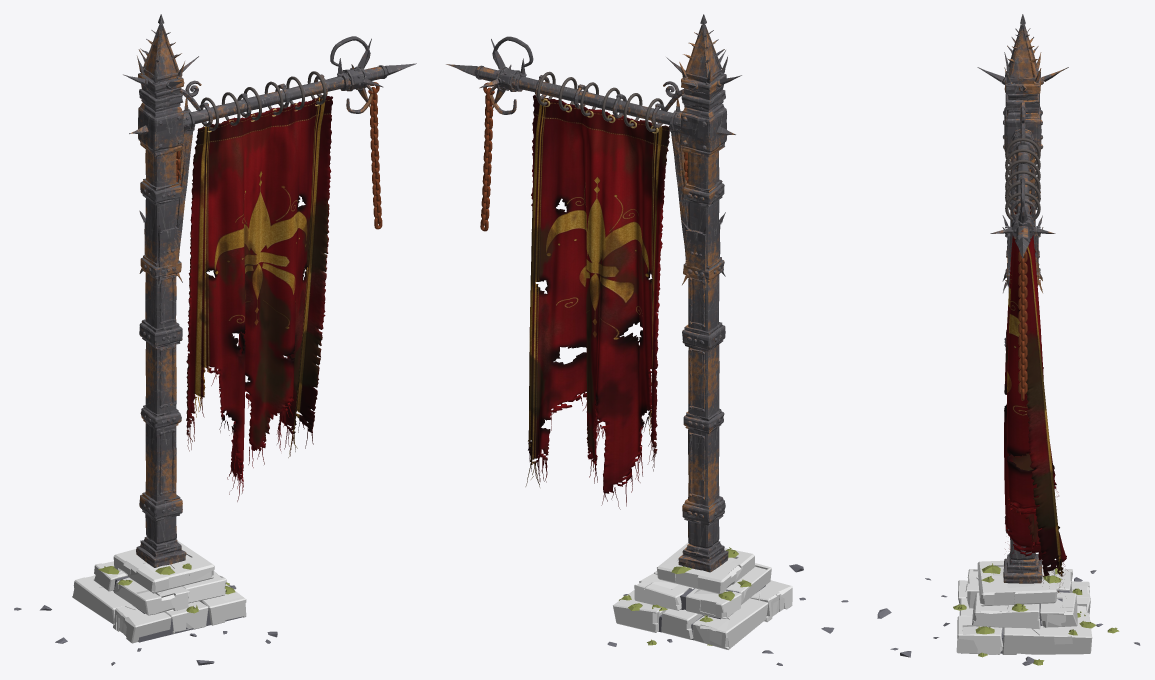
The model's file is SM_Cripta_Estandarte.glb.
The picture shows the model from 3 angles, left to right: view 1: azimuth 30°, elevation 25°; view 2: azimuth 150°, elevation 25°; view 3: azimuth 270°, elevation 25°; orthographic projection. The views are drawn at different scales.
Visible parts, largest first — view 1: SM_Cripta_Estandarte; view 2: SM_Cripta_Estandarte; view 3: SM_Cripta_Estandarte.
Boxes of the visible parts, x1=… form: SM_Cripta_Estandarte: x1=14, y1=14, x2=416, y2=665; SM_Cripta_Estandarte: x1=446, y1=14, x2=848, y2=665; SM_Cripta_Estandarte: x1=877, y1=14, x2=1140, y2=665.
Size of the model in its own units: 2.33 by 3.56 by 1.38.
Materials: 7 (3 with a texture image).
